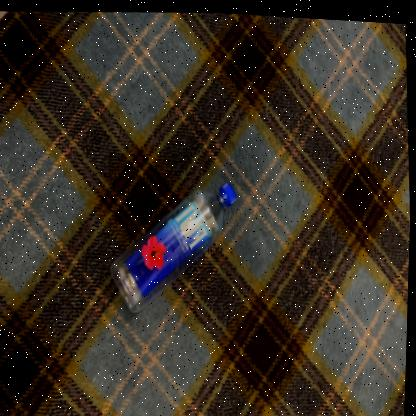Plastic: (110, 179, 236, 311)
